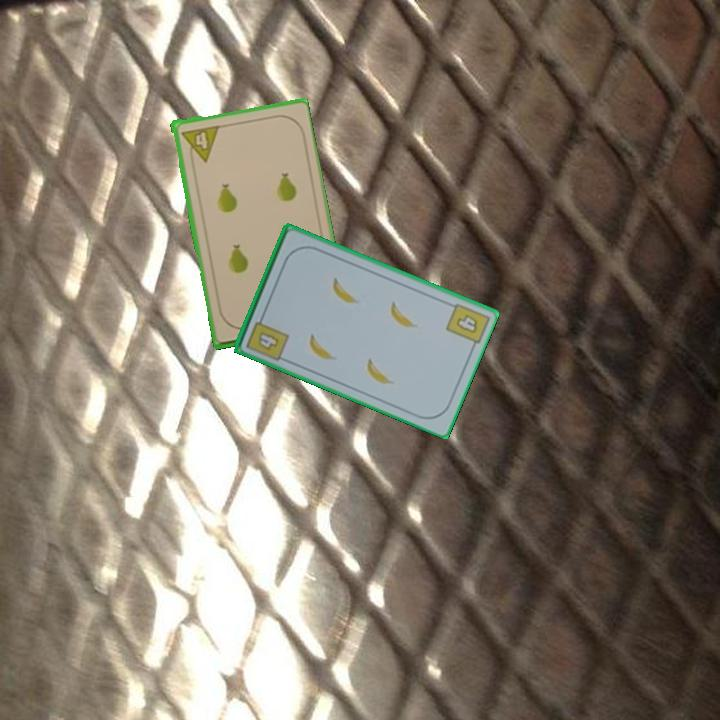4b: (243, 310, 291, 364), (453, 311, 481, 336)
4p: (177, 122, 221, 166)
